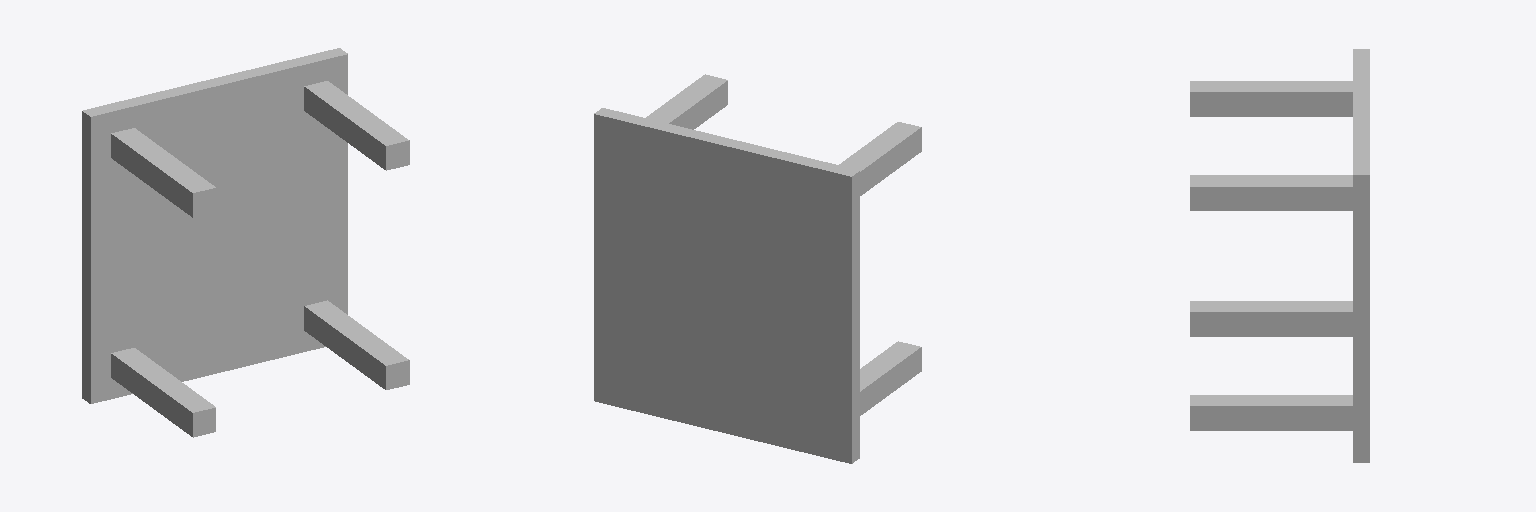
Rendered from random_table11.obj.
3 views of the same model, side by side, from view 1: azimuth 30°, elevation 25°; view 2: azimuth 150°, elevation 25°; view 3: azimuth 270°, elevation 25° (orthographic).
Visible parts, largest first — view 1: Table_Cube.250, TableLeg0_Cube.251, TableLeg2_Cube.253, TableLeg1_Cube.252, TableLeg3_Cube.254; view 2: Table_Cube.250, TableLeg1_Cube.252, TableLeg3_Cube.254, TableLeg0_Cube.251; view 3: Table_Cube.250, TableLeg0_Cube.251, TableLeg1_Cube.252, TableLeg2_Cube.253, TableLeg3_Cube.254.
Part boxes in pixels (x1,y1,x2,y2): Table_Cube.250: (82, 48, 347, 403); TableLeg0_Cube.251: (304, 81, 409, 170); TableLeg2_Cube.253: (304, 300, 409, 389); TableLeg1_Cube.252: (111, 128, 215, 217); TableLeg3_Cube.254: (111, 348, 215, 437); Table_Cube.250: (594, 108, 859, 463); TableLeg1_Cube.252: (839, 122, 921, 195); TableLeg3_Cube.254: (860, 341, 921, 415); TableLeg0_Cube.251: (646, 74, 727, 129); Table_Cube.250: (1353, 49, 1369, 462); TableLeg0_Cube.251: (1190, 175, 1352, 210); TableLeg1_Cube.252: (1190, 81, 1352, 116); TableLeg2_Cube.253: (1190, 395, 1352, 430); TableLeg3_Cube.254: (1190, 301, 1352, 336).
Bounding box in the file's own units: 6.13 × 6.53 × 3.72.